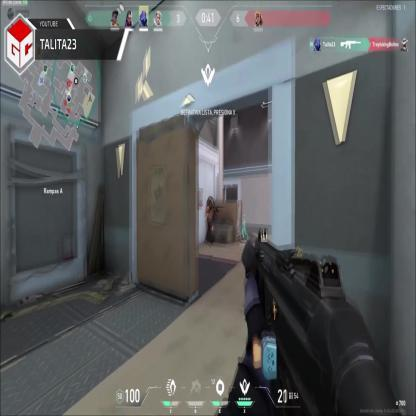enemy: (204, 196, 214, 246)
enemy_head: (208, 198, 212, 208)
